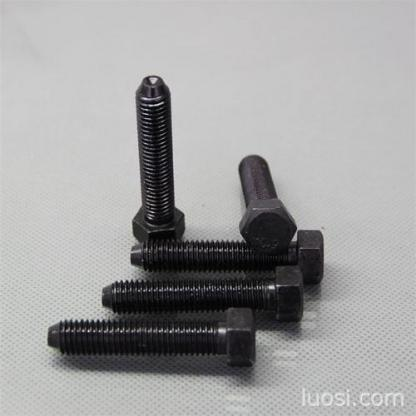FOD: (46, 302, 260, 371), (99, 263, 306, 323), (122, 226, 326, 282), (128, 73, 188, 243), (234, 152, 296, 252)
